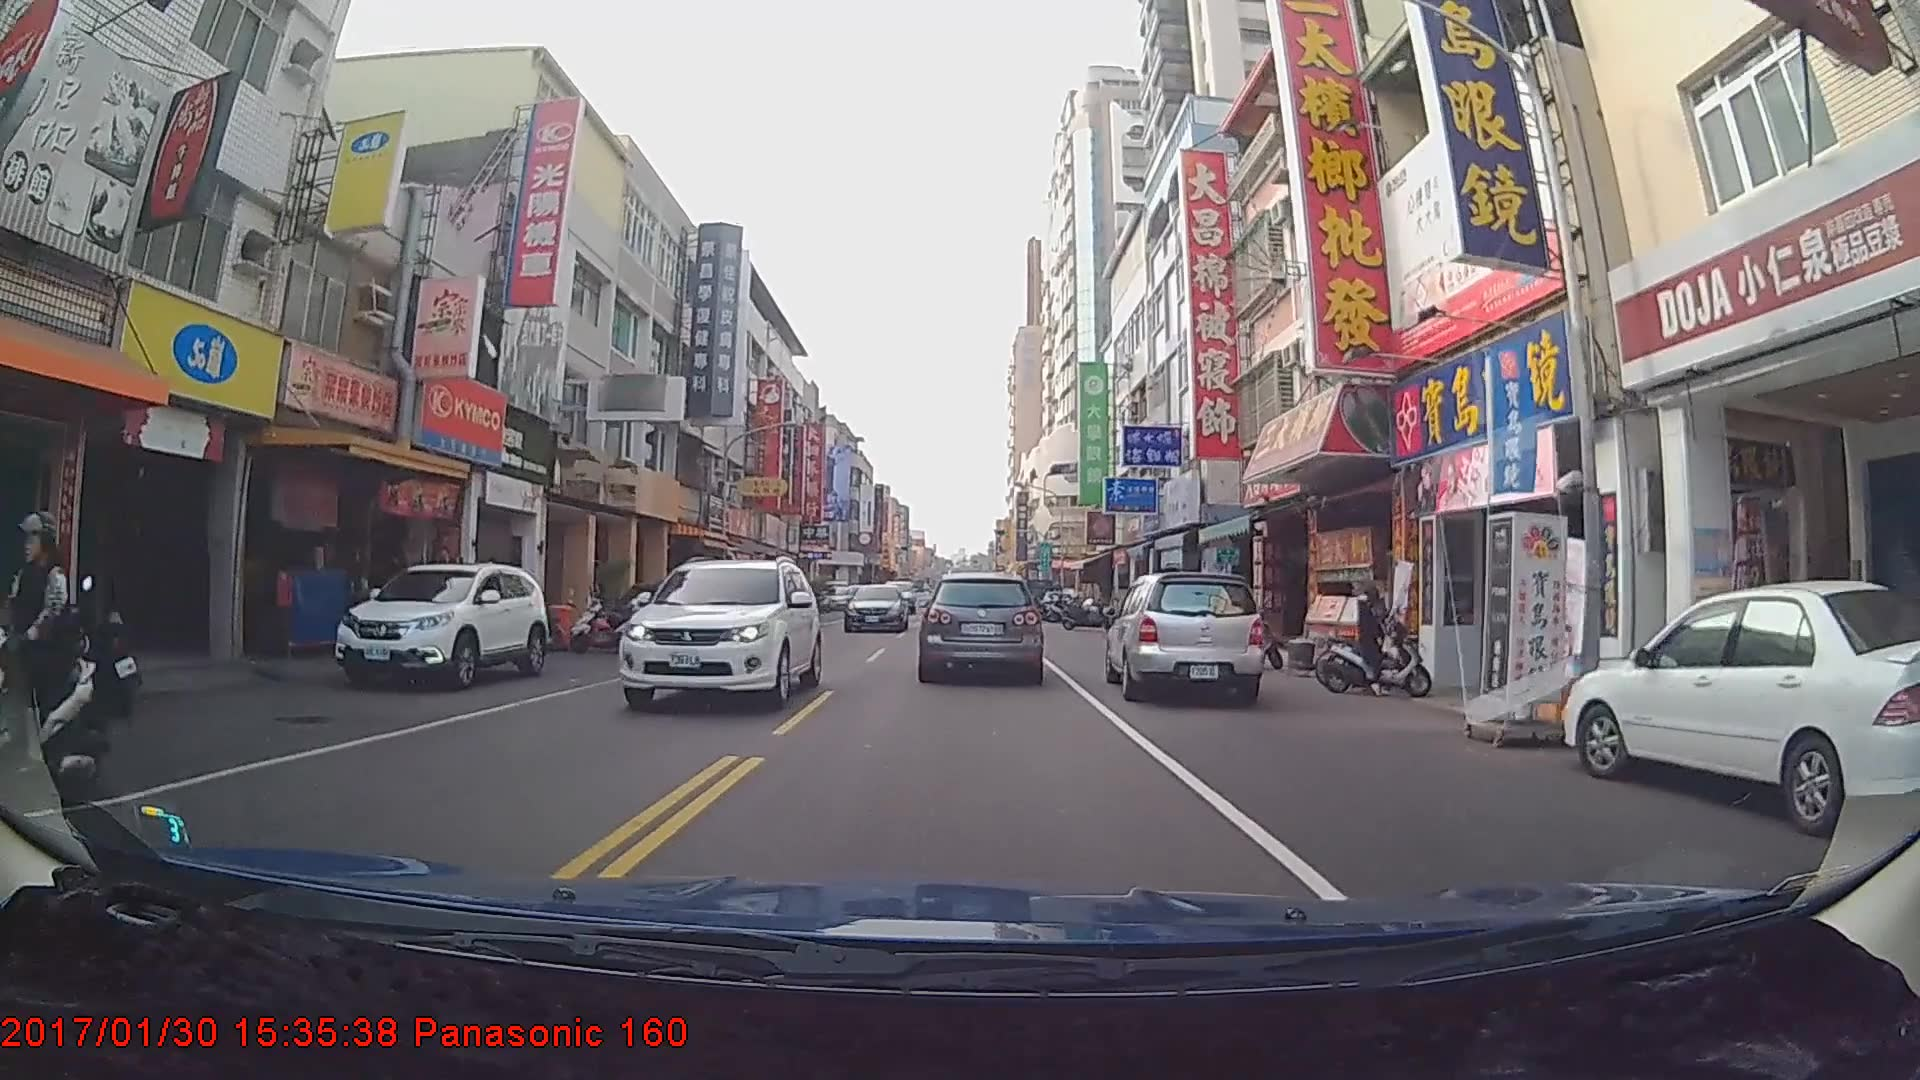rider: (7, 507, 99, 806), (1318, 575, 1440, 703)
vehicle: (1564, 578, 1920, 835), (619, 557, 822, 714), (328, 557, 549, 692), (1103, 567, 1267, 707), (920, 572, 1042, 681), (842, 580, 911, 632)
